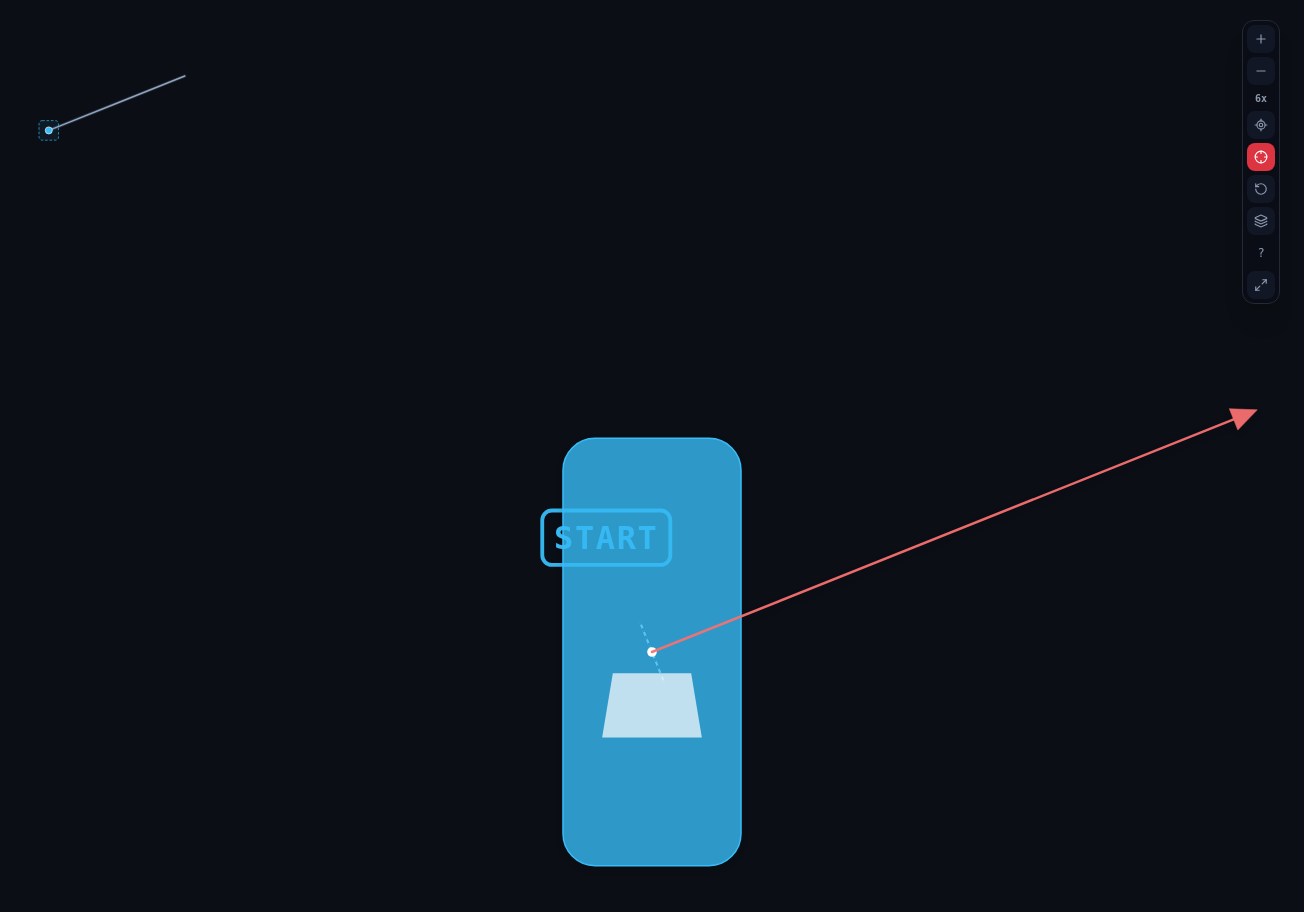
Test: GPS map display layers › disables missing sector and turn data without inventing map markers
Click the button named "Layers" at [1261, 221], box x1=1247 y1=207 x2=1275 y2=235
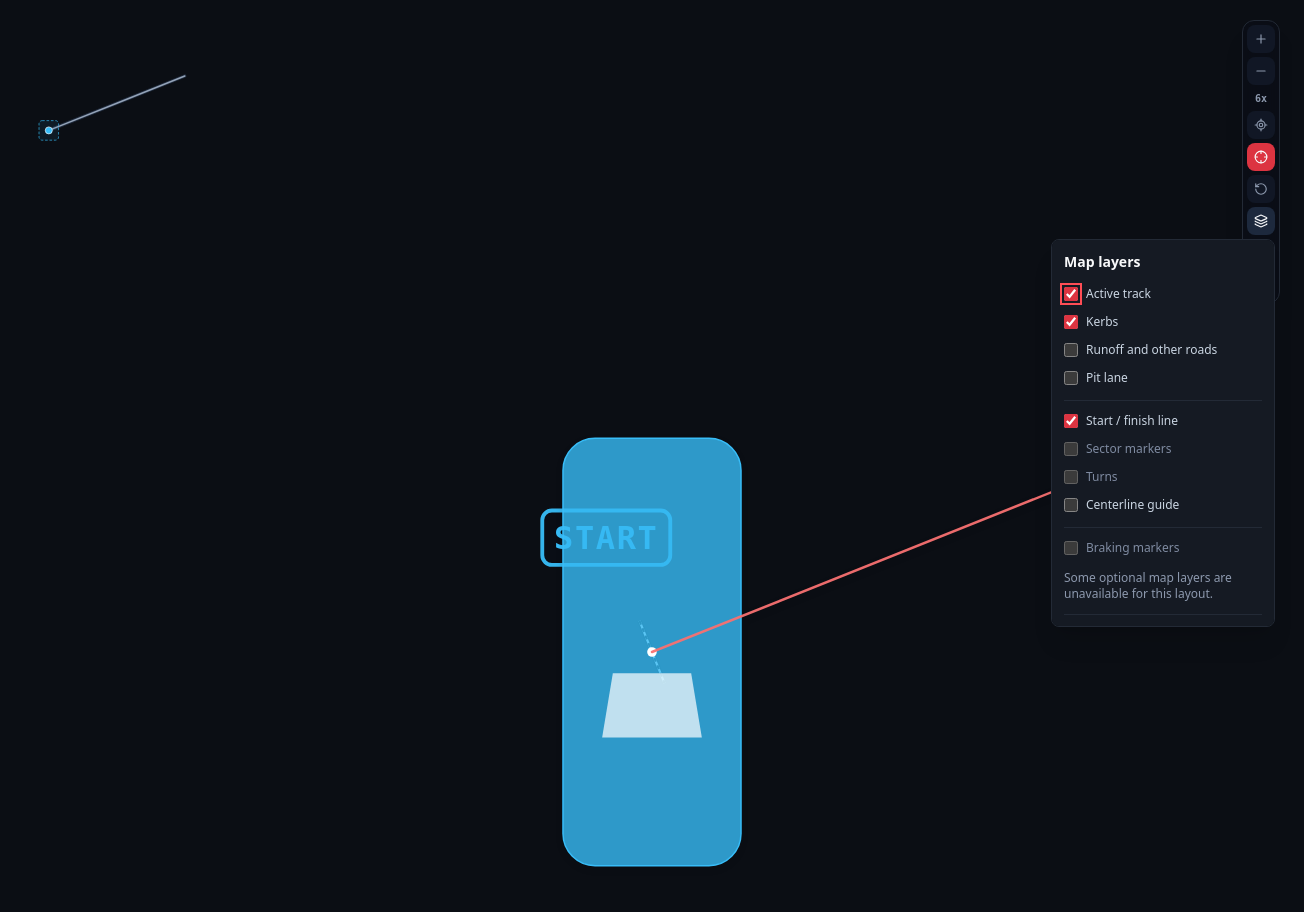
Now the checkbox labelled "Sector markers" is disabled, box x1=1064 y1=442 x2=1078 y2=456
Now the checkbox labelled "Turns" is disabled, box x1=1064 y1=470 x2=1078 y2=484
